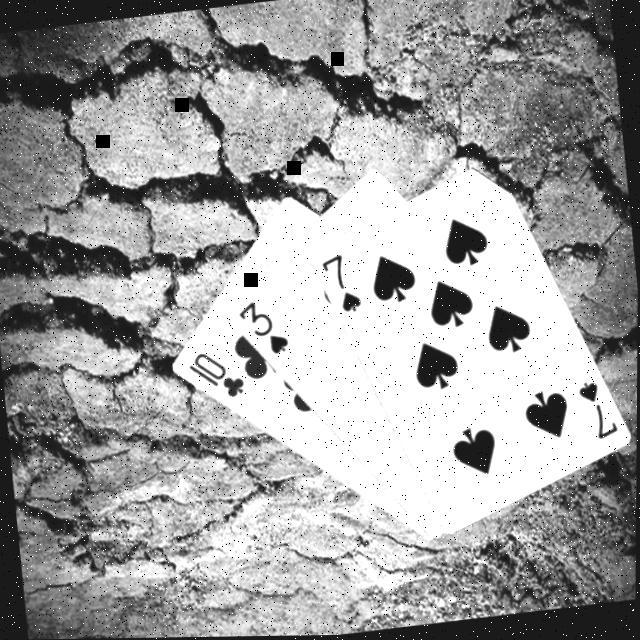10C: (184, 345, 250, 408)
3S: (234, 295, 294, 363)
7S: (318, 249, 367, 320), (574, 376, 623, 447)
